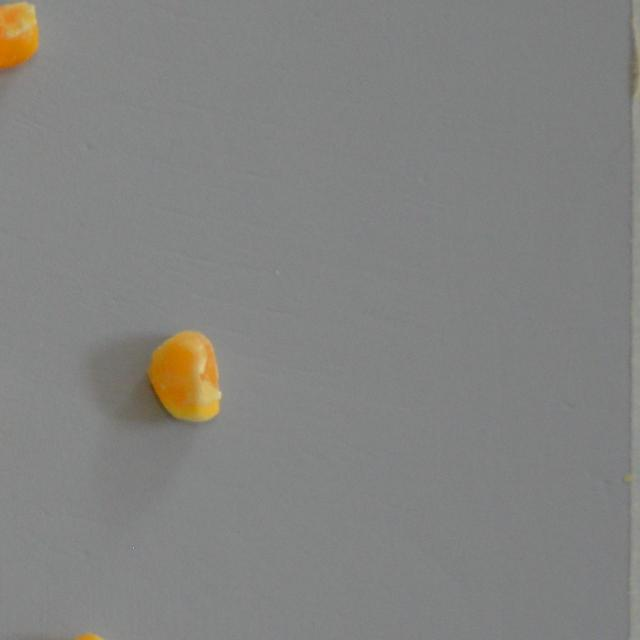dañado: (18, 629, 124, 640)
pelicula: (144, 326, 224, 426), (0, 2, 48, 80)
